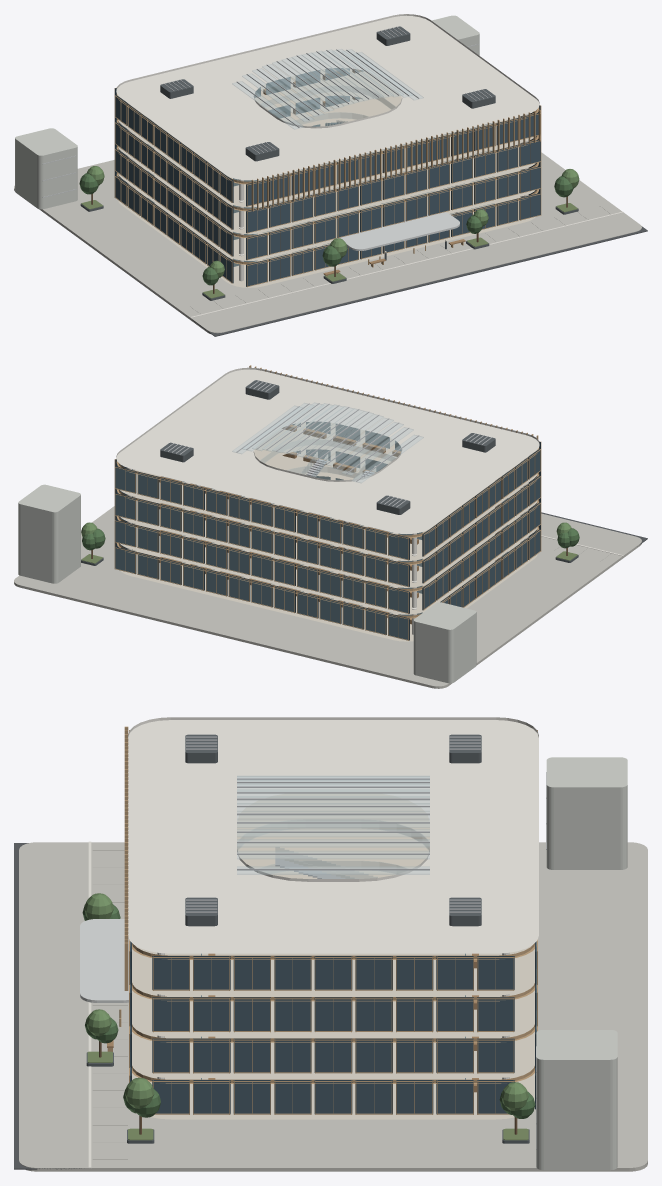
File: toptani_concept.glb
The picture shows the model from 3 angles, top to bottom: view 1: azimuth 30°, elevation 25°; view 2: azimuth 150°, elevation 25°; view 3: azimuth 270°, elevation 25°; orthographic projection. The views are drawn at different scales.
Parts seen in each view (by area): view 1: RetailA_Roof_Warm_Render, Site_Context_Paving, RetailA_Floor_02_Windows_Glass_Dark, RetailA_Floor_03_Windows_Glass_Dark, RetailA_Roof_Glass_Clear, RetailA_Floor_04_Windows_Glass_Dark, RetailA_Floor_01_Windows_Glass_Dark, Site_Context_Context, RetailA_Floor_04_Structure_Limestone, RetailA_Roof_Bronze, RetailA_Floor_03_Structure_Limestone, RetailA_Floor_02_Windows_Bronze (+24 smaller); view 2: RetailA_Roof_Warm_Render, Site_Context_Paving, Site_Context_Context, RetailA_Roof_Glass_Clear, RetailA_Floor_03_Windows_Interior_Shadow, RetailA_Floor_04_Windows_Interior_Shadow, RetailA_Floor_02_Windows_Interior_Shadow, RetailA_Floor_04_Windows_Glass_Blue, RetailA_Floor_03_Windows_Glass_Blue, RetailA_Floor_01_Windows_Glass_Blue, RetailA_Floor_02_Windows_Glass_Blue, RetailA_Floor_01_Windows_Interior_Shadow (+24 smaller); view 3: RetailA_Roof_Warm_Render, Site_Context_Paving, Site_Context_Context, RetailA_Roof_Glass_Clear, RetailA_Floor_04_Structure_Limestone, RetailA_Floor_02_Windows_Glass_Dark, RetailA_Floor_03_Structure_Limestone, RetailA_Floor_04_Windows_Glass_Dark, RetailA_Floor_03_Windows_Glass_Dark, RetailA_Floor_01_Windows_Glass_Dark, RetailA_Roof_Aluminium, RetailA_Floor_02_Structure_Limestone (+24 smaller).
Boxes of the visible parts, bbox=[...] form: RetailA_Roof_Warm_Render: bbox=[116, 14, 539, 180]; Site_Context_Paving: bbox=[14, 152, 641, 333]; RetailA_Floor_02_Windows_Glass_Dark: bbox=[115, 150, 540, 259]; RetailA_Floor_03_Windows_Glass_Dark: bbox=[115, 123, 540, 232]; RetailA_Roof_Glass_Clear: bbox=[232, 49, 423, 129]; RetailA_Floor_04_Windows_Glass_Dark: bbox=[115, 96, 540, 205]; RetailA_Floor_01_Windows_Glass_Dark: bbox=[115, 177, 540, 286]; Site_Context_Context: bbox=[15, 15, 479, 209]; RetailA_Floor_04_Structure_Limestone: bbox=[118, 68, 533, 207]; RetailA_Roof_Bronze: bbox=[251, 109, 540, 211]; RetailA_Floor_03_Structure_Limestone: bbox=[118, 96, 535, 234]; RetailA_Floor_02_Windows_Bronze: bbox=[114, 144, 541, 260]; RetailA_Roof_Warm_Render: bbox=[116, 367, 539, 533]; Site_Context_Paving: bbox=[14, 496, 641, 688]; Site_Context_Context: bbox=[18, 484, 476, 683]; RetailA_Roof_Glass_Clear: bbox=[232, 402, 423, 483]; RetailA_Floor_03_Windows_Interior_Shadow: bbox=[115, 471, 540, 586]; RetailA_Floor_04_Windows_Interior_Shadow: bbox=[115, 441, 540, 559]; RetailA_Floor_02_Windows_Interior_Shadow: bbox=[115, 498, 540, 613]; RetailA_Floor_04_Windows_Glass_Blue: bbox=[115, 467, 408, 559]; RetailA_Floor_03_Windows_Glass_Blue: bbox=[115, 494, 408, 586]; RetailA_Floor_01_Windows_Glass_Blue: bbox=[115, 548, 408, 639]; RetailA_Floor_02_Windows_Glass_Blue: bbox=[115, 521, 408, 612]; RetailA_Floor_01_Windows_Interior_Shadow: bbox=[115, 525, 540, 640]; RetailA_Roof_Warm_Render: bbox=[128, 717, 538, 953]; Site_Context_Paving: bbox=[19, 842, 647, 1171]; Site_Context_Context: bbox=[536, 757, 627, 1170]; RetailA_Roof_Glass_Clear: bbox=[237, 776, 429, 874]; RetailA_Floor_04_Structure_Limestone: bbox=[132, 793, 534, 995]; RetailA_Floor_02_Windows_Glass_Dark: bbox=[130, 1025, 513, 1072]; RetailA_Floor_03_Structure_Limestone: bbox=[132, 834, 534, 1036]; RetailA_Floor_04_Windows_Glass_Dark: bbox=[130, 941, 513, 989]; RetailA_Floor_03_Windows_Glass_Dark: bbox=[130, 984, 513, 1030]; RetailA_Floor_01_Windows_Glass_Dark: bbox=[130, 1067, 513, 1113]; RetailA_Roof_Aluminium: bbox=[186, 736, 480, 912]; RetailA_Floor_02_Structure_Limestone: bbox=[132, 876, 534, 1077].
Size of the model in its own units: 77 by 22.08 by 62.5.
